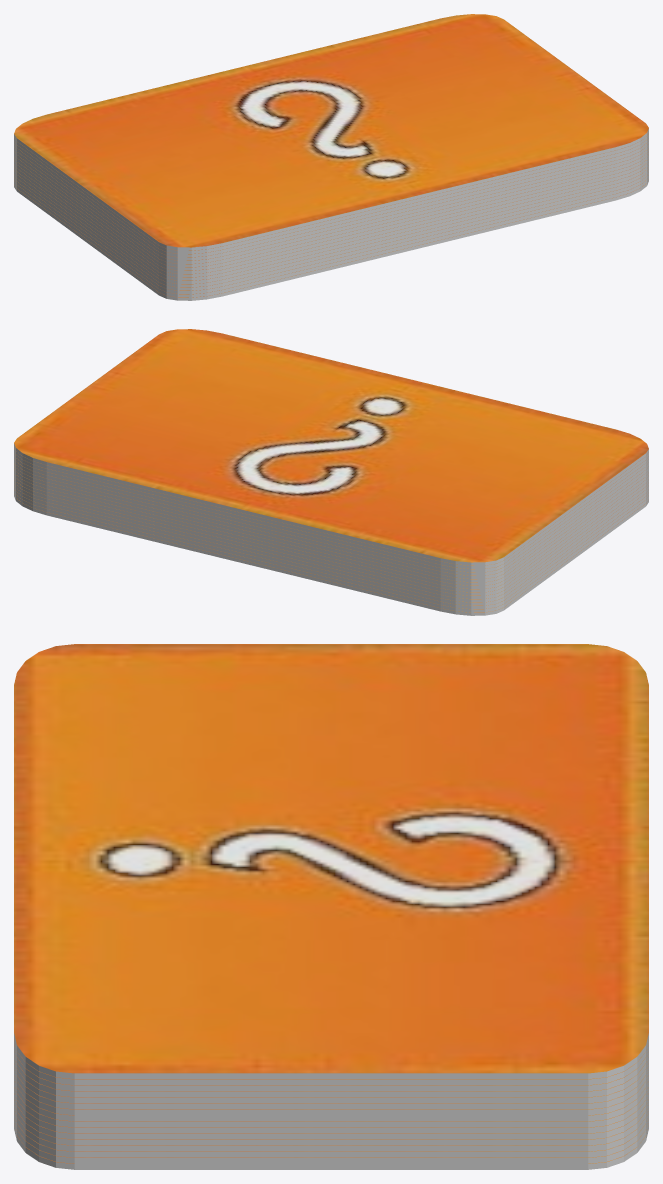
File: chance_deck.fbx
The picture shows the model from 3 angles, top to bottom: view 1: azimuth 30°, elevation 25°; view 2: azimuth 150°, elevation 25°; view 3: azimuth 270°, elevation 25°; orthographic projection. The views are drawn at different scales.
Visible parts, largest first — view 1: Card; view 2: Card; view 3: Card.
Boxes of the visible parts, x1=… form: Card: x1=14, y1=14, x2=648, y2=300; Card: x1=14, y1=329, x2=648, y2=615; Card: x1=14, y1=644, x2=648, y2=1169.
Bounding box in the file's own units: 8 × 0.8375 × 5.
Materials: 2 (1 with a texture image).
